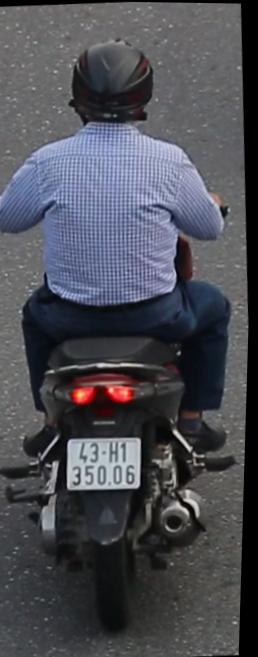LP: (61, 423, 154, 504)
helmet: (62, 28, 167, 129)
